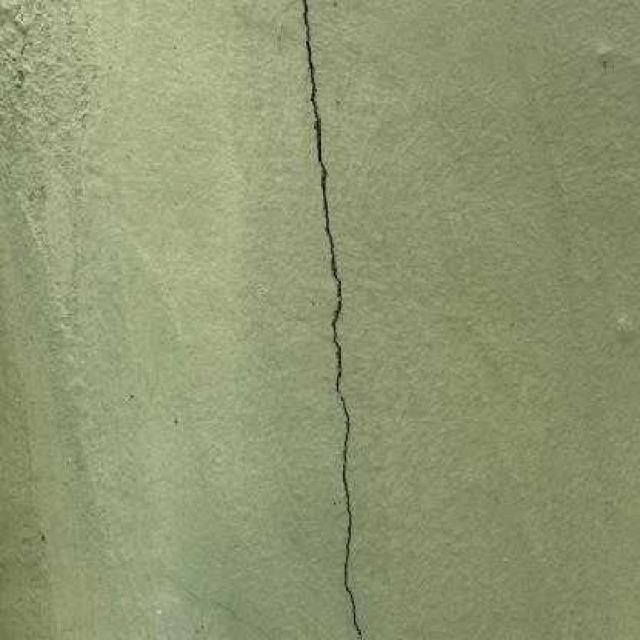D00: (301, 0, 362, 640)
